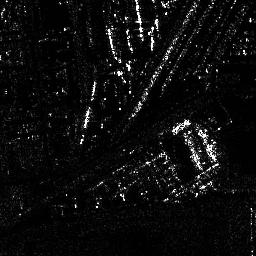ship: (170, 118, 191, 135)
